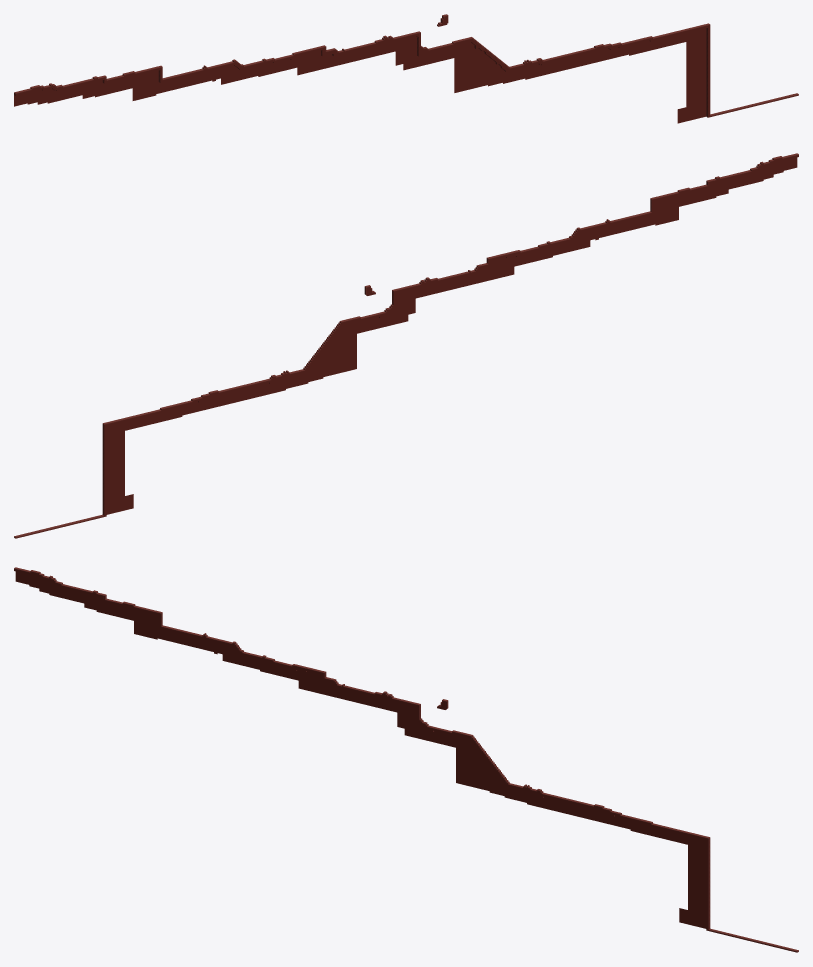
File: Luna5CinzaSolo.glb
3 views of the same model, one above another, from view 1: azimuth 30°, elevation 25°; view 2: azimuth 210°, elevation 25°; view 3: azimuth 330°, elevation 25° (orthographic).
Visible parts, largest first — view 1: Setor_27, Setor_18, Setor_17, Setor_26, Setor_15, Setor_5, Setor_19, Setor_16, Setor_11, Setor_12, Setor_4, Setor_8 (+16 smaller); view 2: Setor_27, Setor_18, Setor_17, Setor_26, Setor_15, Setor_5; view 3: Setor_27, Setor_18, Setor_17, Setor_26, Setor_15, Setor_5.
Part boxes in pixels (x1,y1,x2,y2): Setor_27: (690,23,716,120); Setor_18: (464,37,490,90); Setor_17: (439,14,465,92); Setor_26: (665,28,691,123); Setor_15: (389,32,415,70); Setor_5: (138,65,165,99); Setor_19: (489,52,516,85); Setor_16: (414,22,440,67); Setor_11: (289,48,316,75); Setor_12: (314,45,341,70); Setor_4: (113,71,140,100); Setor_8: (215,59,241,84); Setor_27: (96,419,122,518); Setor_18: (322,319,348,378); Setor_17: (347,285,373,371); Setor_26: (121,412,147,511); Setor_15: (397,280,423,323); Setor_5: (647,193,674,225); Setor_27: (690,833,716,932); Setor_18: (464,733,490,792); Setor_17: (439,699,465,785); Setor_26: (665,826,691,925); Setor_15: (389,694,415,737); Setor_5: (138,607,165,639).
Size of the model in its own units: 801 by 190 by 2.85.
1 material, 1 textured.
